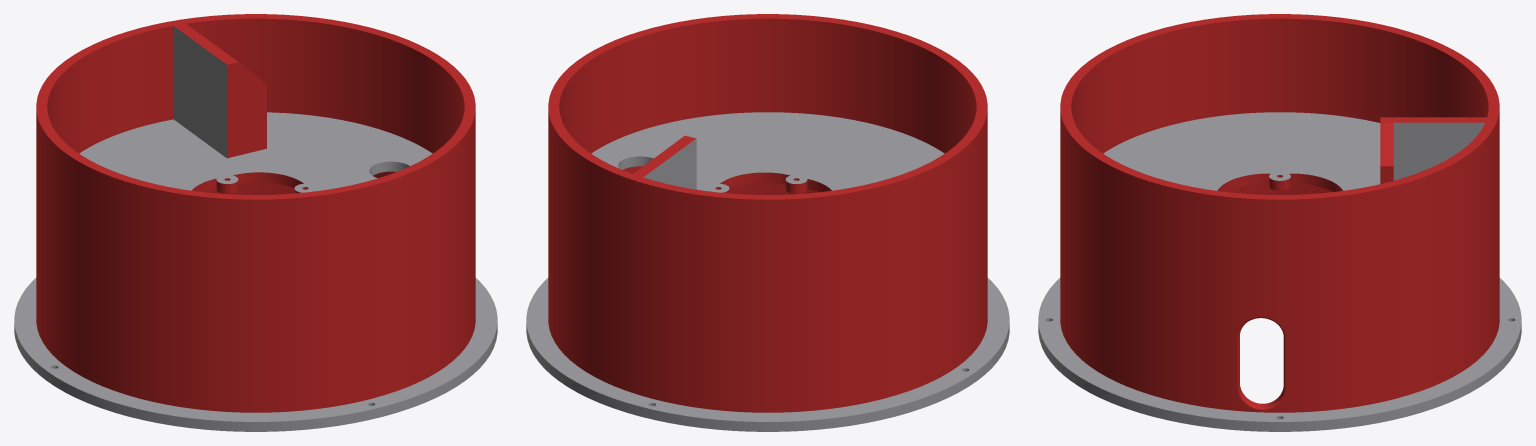
Rendered from robotic_arm_base.glb.
3 views of the same model, side by side, from view 1: azimuth 30°, elevation 25°; view 2: azimuth 150°, elevation 25°; view 3: azimuth 270°, elevation 25° (orthographic).
Size of the model in its own units: 0.22 by 0.112 by 0.2199.
